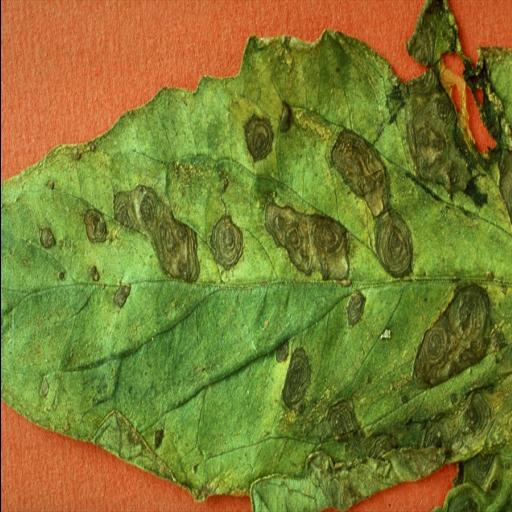disease_tomato: (0, 20, 512, 512)
